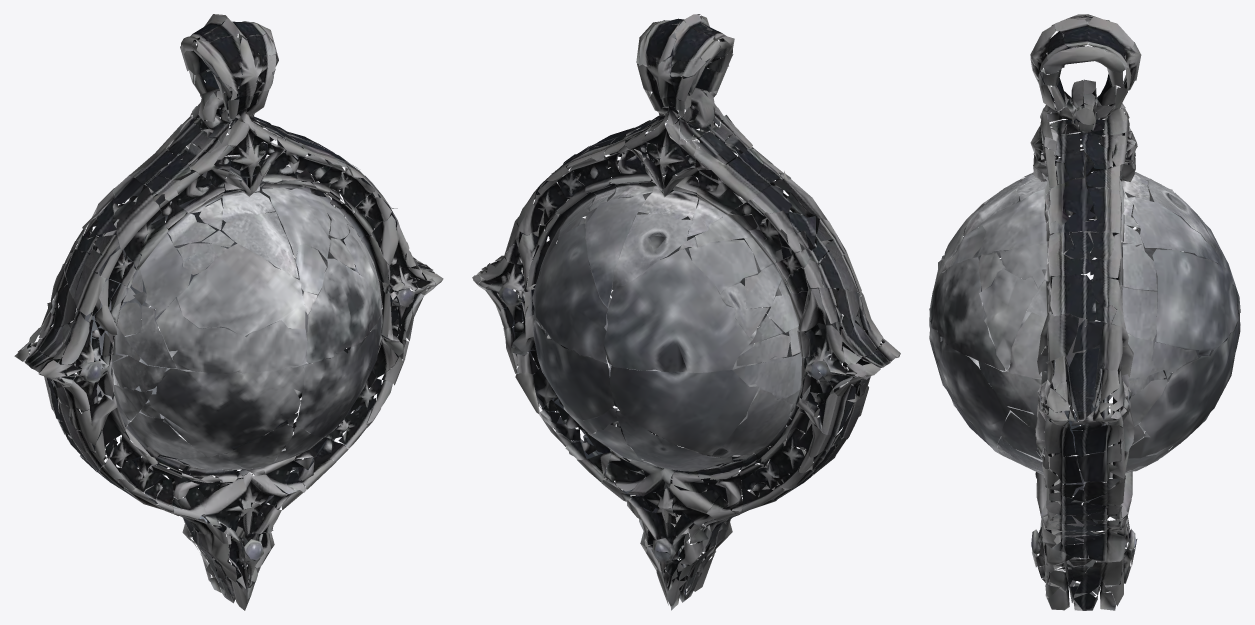
The model's file is talisman-moon-phone.glb.
3 views of the same model, side by side, from view 1: azimuth 30°, elevation 25°; view 2: azimuth 150°, elevation 25°; view 3: azimuth 270°, elevation 25° (orthographic). The views are drawn at different scales.
Parts seen in each view (by area): view 1: Mesh_0; view 2: Mesh_0; view 3: Mesh_0.
Part boxes in pixels (x1,y1,x2,y2): Mesh_0: [14, 14, 443, 610]; Mesh_0: [472, 14, 900, 610]; Mesh_0: [929, 14, 1240, 610].
Bounding box in the file's own units: 1.38 × 1.9 × 0.9037.
1 material, 1 textured.
